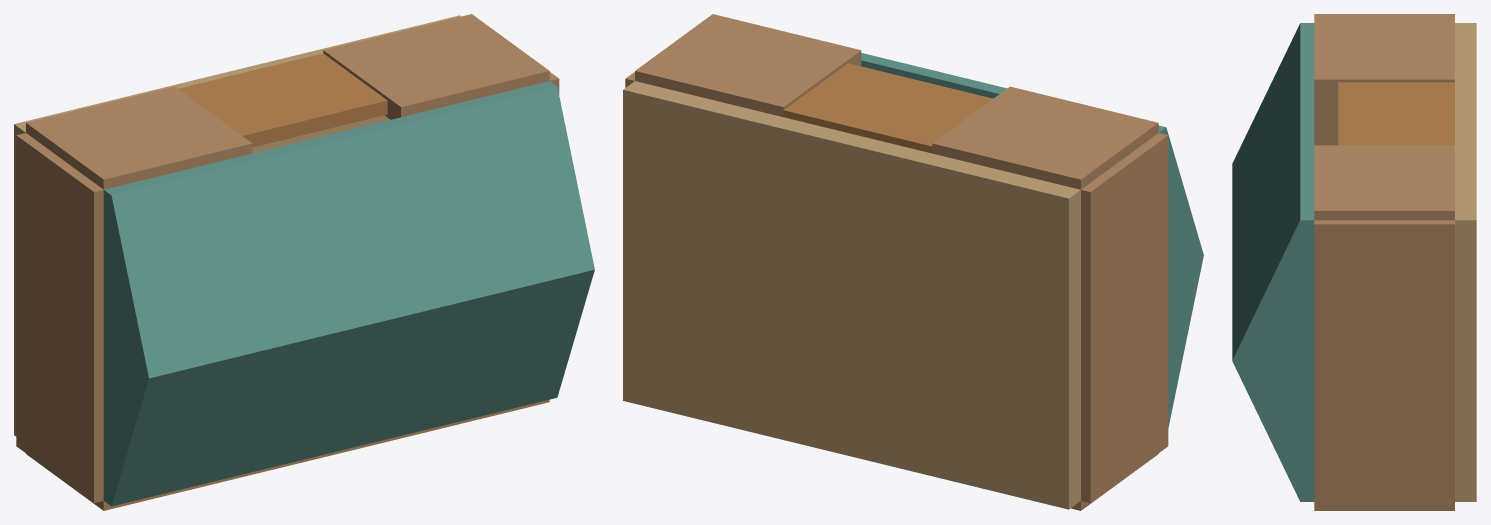
Rendered from cabin.obj.
3 renders of one model, left to right at view 1: azimuth 30°, elevation 25°; view 2: azimuth 150°, elevation 25°; view 3: azimuth 270°, elevation 25°, orthographic. The views are drawn at different scales.
Visible parts, largest first — view 1: roof_tile0-1, roof_tile2-1, roof_tile1-1, roof_tile0-0, roof_tile1-0, roof_tile2-0, walls_edge4, walls_edge3, walls_edge7, walls_edge8, door_whole, foundation_tile1-1 (+3 smaller); view 2: foundation_tile0-1, foundation_tile1-1, foundation_tile0-0, foundation_tile2-1, foundation_tile1-0, foundation_tile2-0, walls_edge4, walls_edge3, walls_edge7, walls_edge8, door_whole, roof_tile0-1 (+2 smaller); view 3: walls_edge6, walls_edge5, roof_tile2-1, walls_edge8, walls_edge7, door_whole, roof_tile2-0, roof_tile1-1, roof_tile0-1, foundation_tile2-1, foundation_tile2-0, foundation_tile1-1 (+3 smaller).
Boxes of the visible parts, x1,y1,x2,y2 form: roof_tile0-1: (103, 153, 297, 378); roof_tile2-1: (401, 81, 594, 305); roof_tile1-1: (252, 117, 446, 341); roof_tile0-0: (103, 342, 297, 506); roof_tile1-0: (260, 306, 446, 469); roof_tile2-0: (409, 269, 594, 433); walls_edge4: (16, 133, 103, 347); walls_edge3: (16, 291, 103, 502); walls_edge7: (26, 86, 252, 189); walls_edge8: (323, 14, 549, 119); door_whole: (178, 53, 387, 147); foundation_tile1-1: (163, 51, 323, 153); foundation_tile0-1: (920, 153, 1080, 353); foundation_tile1-1: (771, 117, 931, 317); foundation_tile0-0: (920, 318, 1080, 509); foundation_tile2-1: (623, 81, 782, 281); foundation_tile1-0: (771, 281, 920, 473); foundation_tile2-0: (623, 245, 771, 436); walls_edge4: (1081, 133, 1168, 347); walls_edge3: (1081, 291, 1168, 502); walls_edge7: (932, 86, 1158, 189); walls_edge8: (635, 14, 861, 117); door_whole: (783, 63, 992, 153); roof_tile0-1: (1158, 125, 1203, 280); walls_edge6: (1314, 220, 1454, 365); walls_edge5: (1314, 365, 1454, 505); roof_tile2-1: (1232, 154, 1314, 360); walls_edge8: (1314, 145, 1454, 220); walls_edge7: (1314, 14, 1454, 97); door_whole: (1338, 82, 1454, 145); roof_tile2-0: (1232, 361, 1314, 501); roof_tile1-1: (1232, 88, 1314, 294); roof_tile0-1: (1232, 23, 1314, 228); foundation_tile2-1: (1455, 154, 1476, 360); foundation_tile2-0: (1455, 361, 1476, 501); foundation_tile1-1: (1455, 88, 1476, 154).
Bounding box in the file's own units: 3.13 × 2.13 × 1.57.
